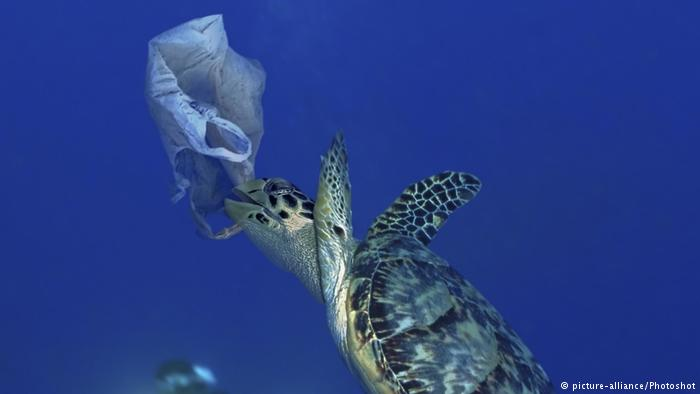fish: (215, 133, 573, 394)
litter: (106, 6, 267, 201)
